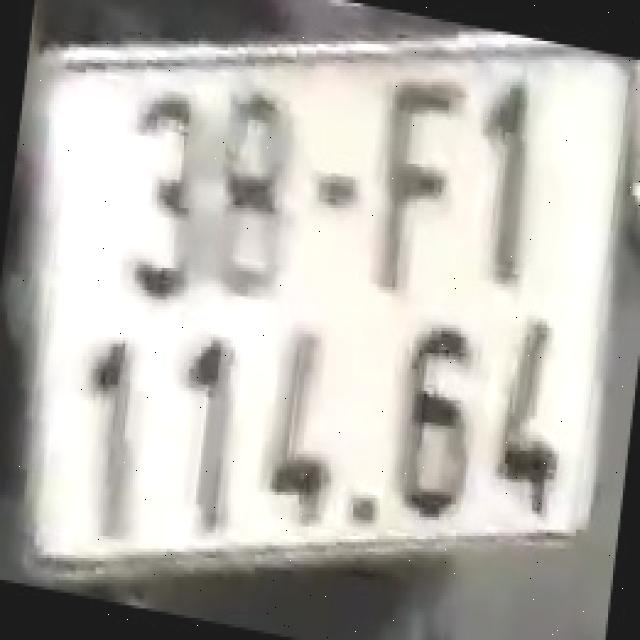1: (174, 330, 243, 534), (80, 334, 144, 542), (477, 74, 538, 289)
3: (124, 88, 202, 303)
4: (261, 322, 342, 532), (493, 312, 569, 520)
6: (394, 320, 476, 522)
8: (214, 83, 298, 298)
F: (375, 76, 464, 293)
